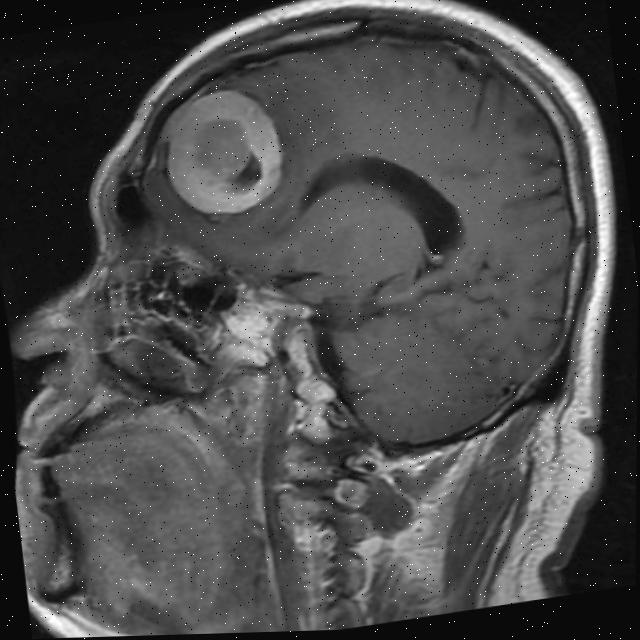Meningioma: (151, 79, 293, 225)
